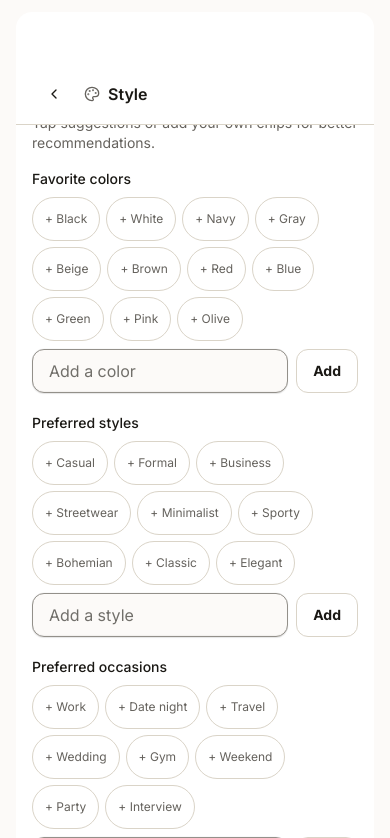
it: ProfilePage mobile drill-down (<md, no matchMedia) › renders a deep-linked subpage directly and resets to the root on back
Expected: the heading "Style Preferences" is shown, [32, 91, 168, 111]
# No pushed history entry exists, so back resets state instead of popping.
What coordinates should you click on to do the following:
click the button named "Back to profile settings"
I would click on:
 (54, 94)
Its box is [32, 72, 76, 116].
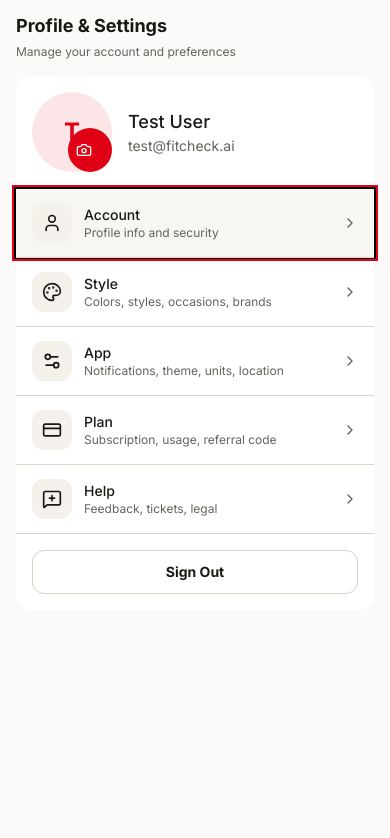
Now the navigation bar named "Profile sections" is shown, box [16, 189, 374, 533]
